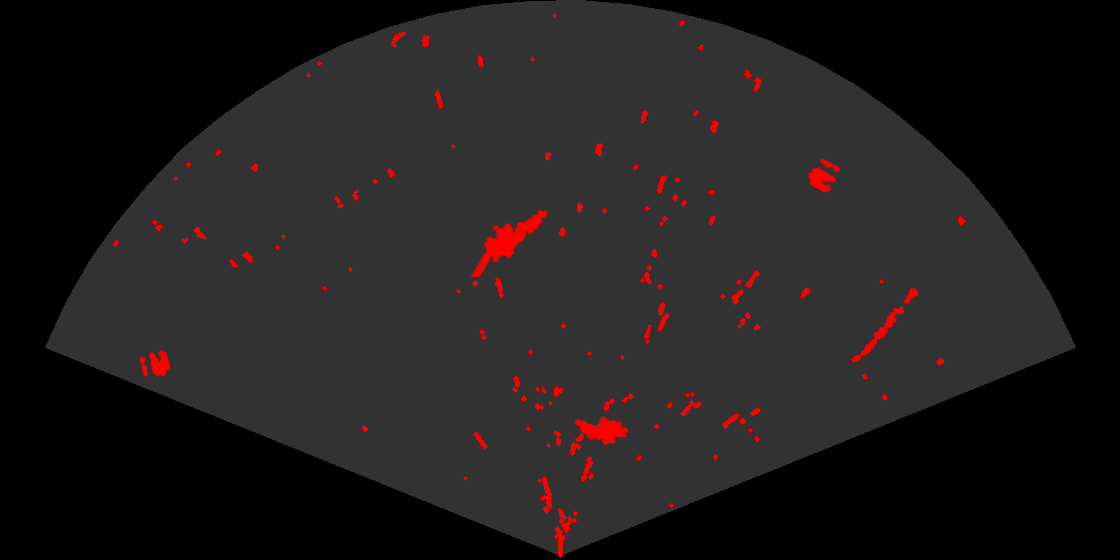AUV: (572, 415, 630, 447)
ball: (806, 157, 842, 194), (137, 348, 172, 379)
chain: (850, 286, 920, 364)
frogman: (471, 208, 549, 277)
